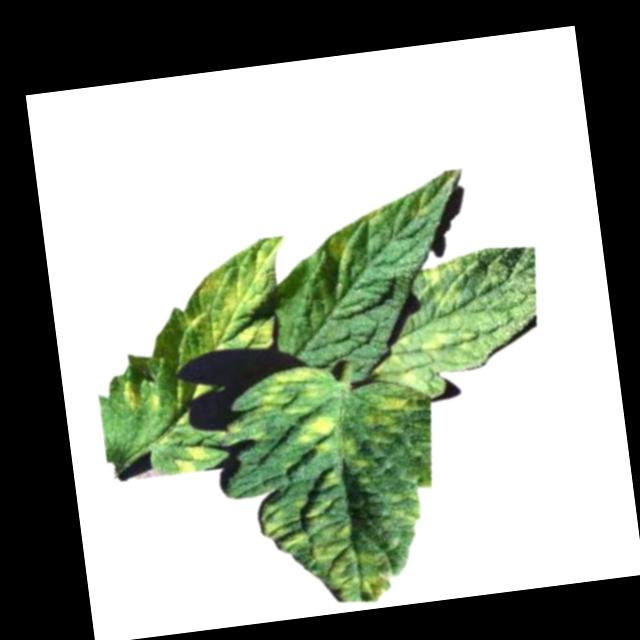Leaf_Mold: (254, 464, 392, 612), (173, 233, 296, 358), (368, 320, 493, 396), (253, 363, 332, 416), (421, 253, 479, 309), (358, 384, 420, 435), (295, 413, 341, 457), (324, 233, 360, 275), (173, 441, 213, 476), (122, 379, 145, 415), (363, 206, 391, 225)
